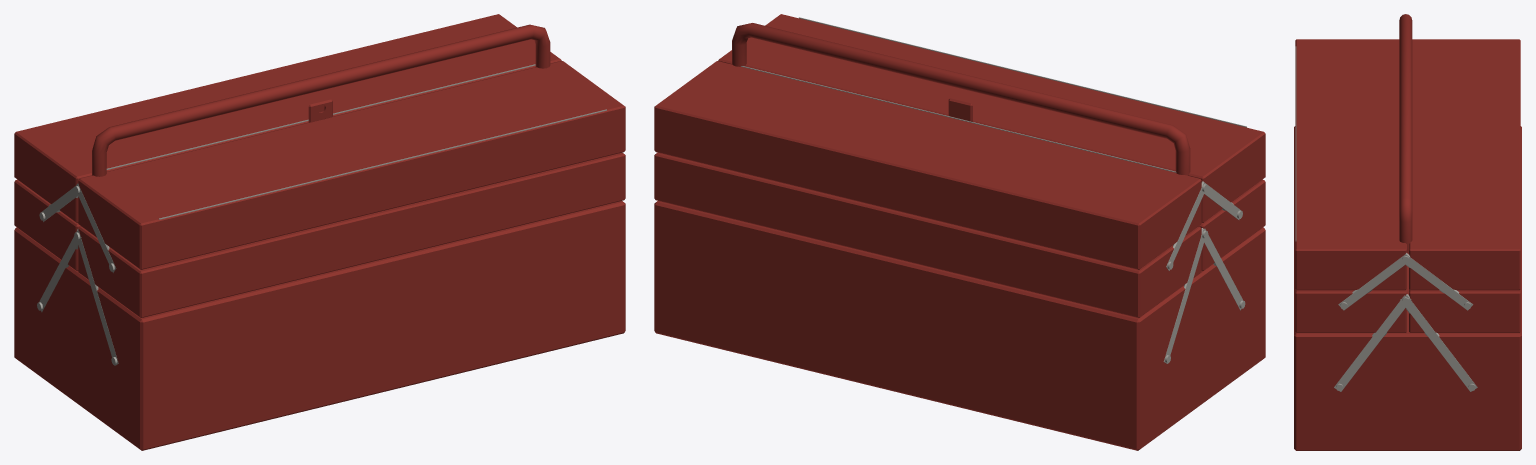
File: toolbox-fd54515b3e6a.glb
3 renders of one model, left to right at view 1: azimuth 30°, elevation 25°; view 2: azimuth 150°, elevation 25°; view 3: azimuth 270°, elevation 25°, orthographic. The views are drawn at different scales.
Visible parts, largest first — view 1: enamel-red, brushed; view 2: enamel-red, brushed; view 3: enamel-red, brushed.
Part boxes in pixels (left/top/right/bottom): enamel-red: left=14, top=14, right=625, bottom=450; brushed: left=37, top=64, right=606, bottom=365; enamel-red: left=654, top=14, right=1265, bottom=450; brushed: left=741, top=17, right=1246, bottom=363; enamel-red: left=1294, top=14, right=1521, bottom=450; brushed: left=1295, top=46, right=1477, bottom=391.
Bounding box in the file's own units: 0.4638 × 0.245 × 0.21.
